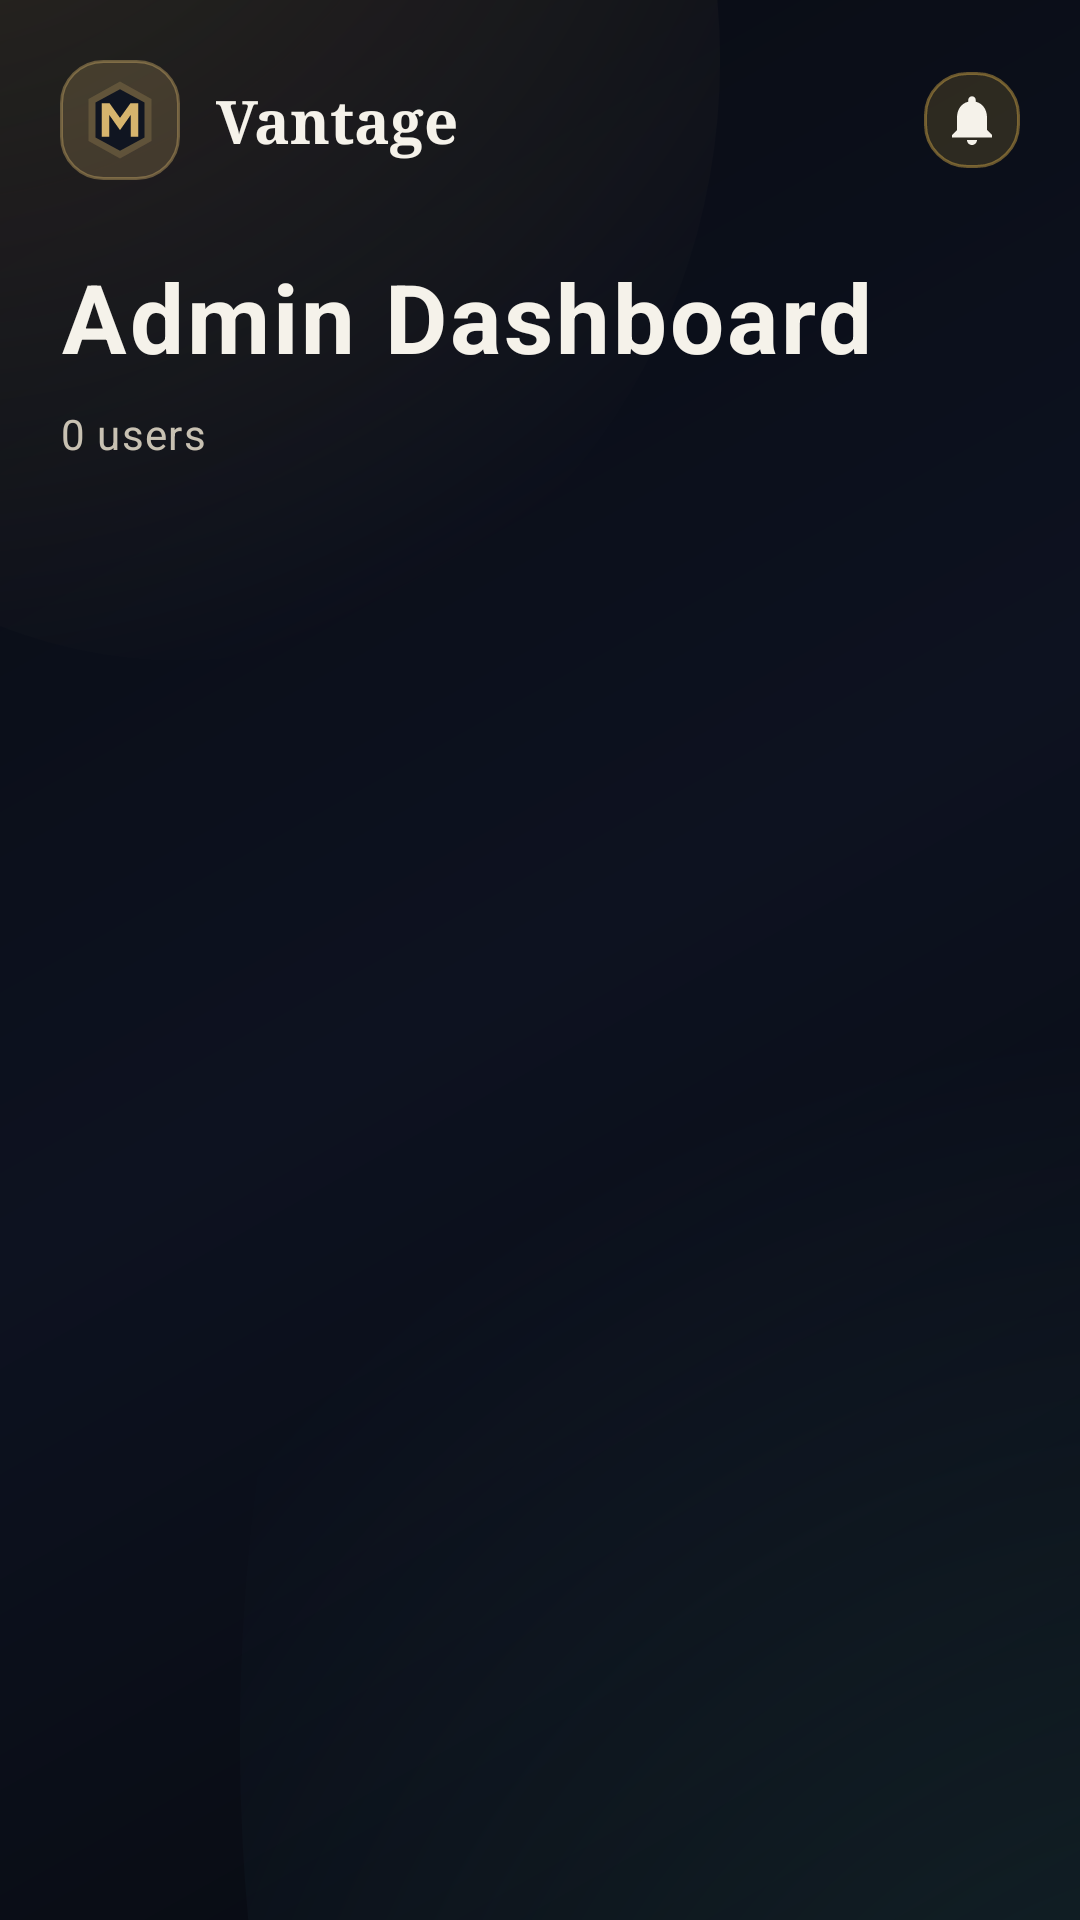

Locate icon controls on the screen. Image size 1080x1920, boxes as bbox=[x1, y1, x2, y2].
Notifications: bbox=[924, 72, 1020, 168]
